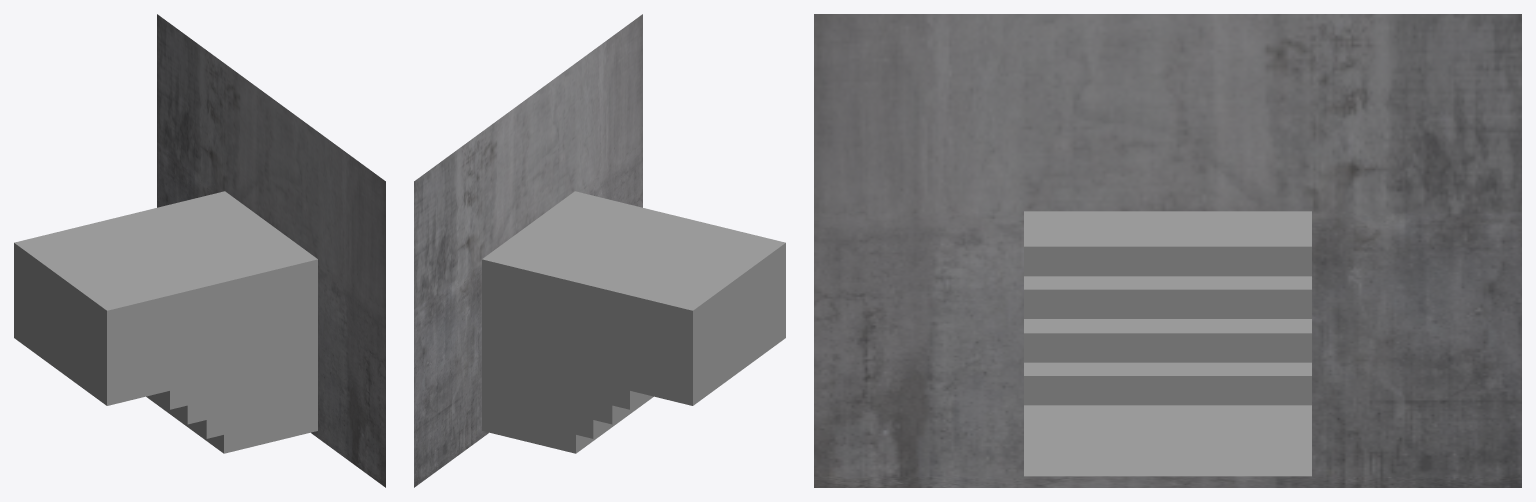
The model's file is fbx_wall_s1_market3.fbx.
3 views of the same model, side by side, from view 1: azimuth 30°, elevation 25°; view 2: azimuth 150°, elevation 25°; view 3: azimuth 270°, elevation 25° (orthographic). The views are drawn at different scales.
Parts seen in each view (by area): view 1: fbx_wall_s1_market3; view 2: fbx_wall_s1_market3; view 3: fbx_wall_s1_market3.
Boxes of the visible parts, x1,y1,x2,y2 form: fbx_wall_s1_market3: [14, 14, 385, 487]; fbx_wall_s1_market3: [414, 14, 785, 487]; fbx_wall_s1_market3: [814, 14, 1521, 487].
Size of the model in its own units: 2.51 by 3.48 by 4.71.
2 materials, 1 textured.
